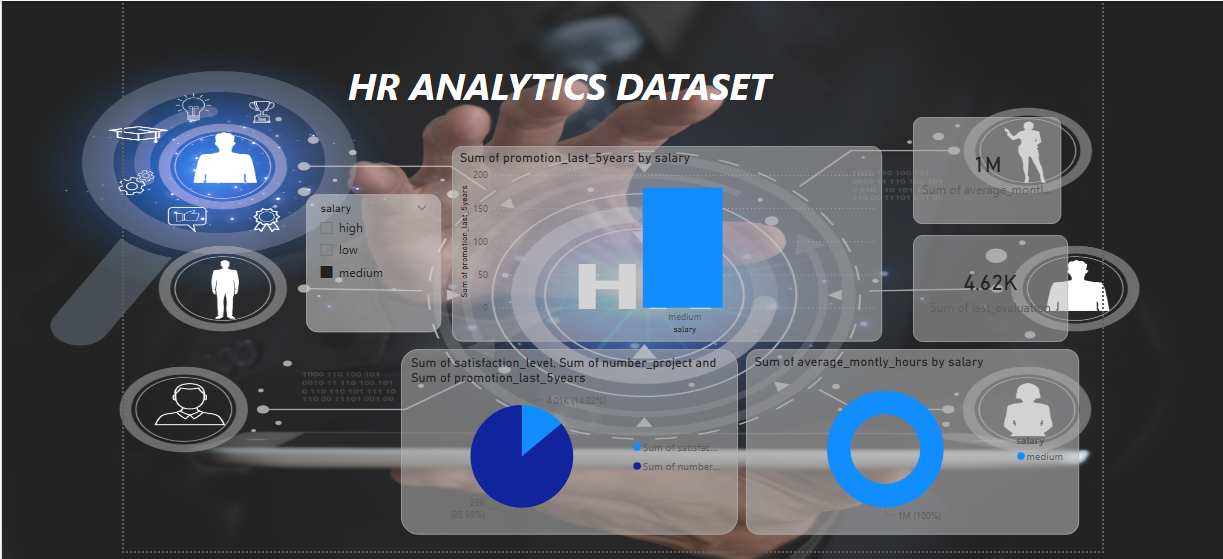

This screenshot's page, from the dashboard's own definition file:
{"tool":"powerbi","page":{"name":"Page 1","canvas":[1280,720],"ordinal":0},"visuals":[{"type":"donutChart","fields":{"Y":["Sum(HR_capstone_dataset.average_montly_hours)"],"Category":["HR_capstone_dataset.salary"]},"box":[814.3,455.7,435.7,242.9],"z":0},{"type":"pieChart","fields":{"Y":["Sum(HR_capstone_dataset.satisfaction_level)","Sum(HR_capstone_dataset.number_project)"]},"box":[362.9,455.7,441.4,242.9],"z":1000},{"type":"card","fields":{"Values":["Sum(HR_capstone_dataset.average_montly_hours)"]},"box":[1032.9,151.4,194.3,140],"z":2000},{"type":"card","fields":{"Values":["Sum(HR_capstone_dataset.last_evaluation)"]},"box":[1032.9,305.7,202.9,140],"z":3000},{"type":"lineClusteredColumnComboChart","fields":{"Y":["Sum(HR_capstone_dataset.promotion_last_5years)"],"Category":["HR_capstone_dataset.salary"]},"box":[430,190,562.9,255.7],"z":4000},{"type":"textbox","box":[287.9,71.6,645.8,181.3],"z":5000},{"type":"slicer","fields":{"Values":["HR_capstone_dataset.salary"]},"box":[238.6,252.9,176.6,181.3],"z":6000}]}

Visuals, with their boxes on the page's 1280x720 design canvas (x1, y1, x2, y2). These are canvas units, not pixel positions in the 1223x559 screenshot, which may show the page scaled, cropped or inside an application window:
donutChart - Sum(HR_capstone_dataset.average_montly_hours) x HR_capstone_dataset.salary: detection(814, 456, 1250, 699)
pieChart - Sum(HR_capstone_dataset.satisfaction_level) x Sum(HR_capstone_dataset.number_project): detection(363, 456, 804, 699)
card - Sum(HR_capstone_dataset.average_montly_hours): detection(1033, 151, 1227, 291)
card - Sum(HR_capstone_dataset.last_evaluation): detection(1033, 306, 1236, 446)
lineClusteredColumnComboChart - Sum(HR_capstone_dataset.promotion_last_5years) x HR_capstone_dataset.salary: detection(430, 190, 993, 446)
textbox: detection(288, 72, 934, 253)
slicer - HR_capstone_dataset.salary: detection(239, 253, 415, 434)
